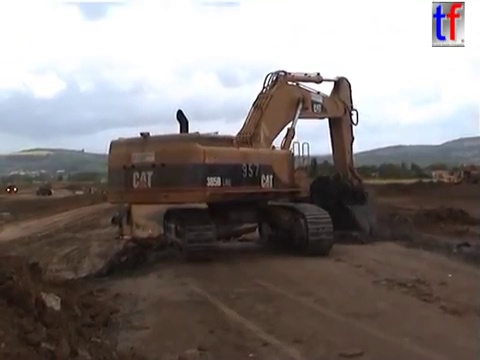excavator: (98, 67, 382, 260)
truck: (109, 198, 259, 281), (34, 182, 55, 198), (4, 182, 20, 196)
